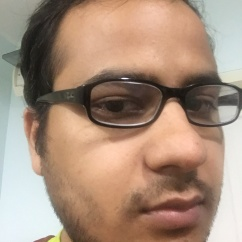glasses: (37, 70, 242, 129)
